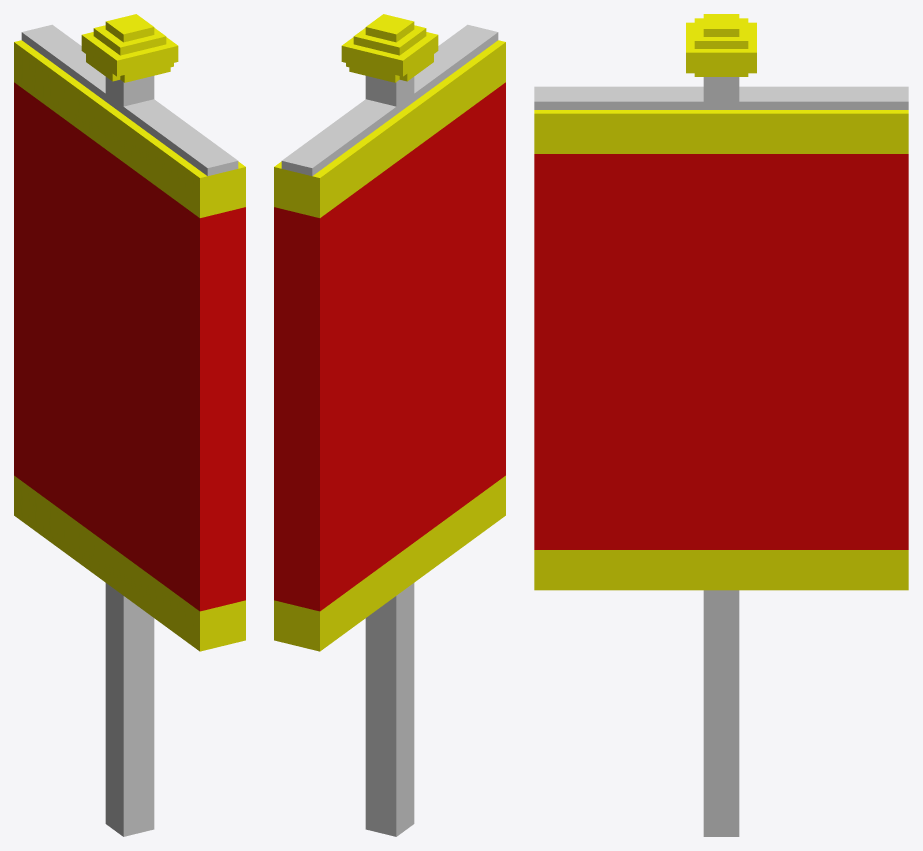
File: LeaderUnit_Red.obj
3 views of the same model, side by side, from view 1: azimuth 30°, elevation 25°; view 2: azimuth 150°, elevation 25°; view 3: azimuth 270°, elevation 25° (orthographic).
Bounding box in the file's own units: 0.8 × 10 × 4.2.
Materials: 1 (1 with a texture image).
